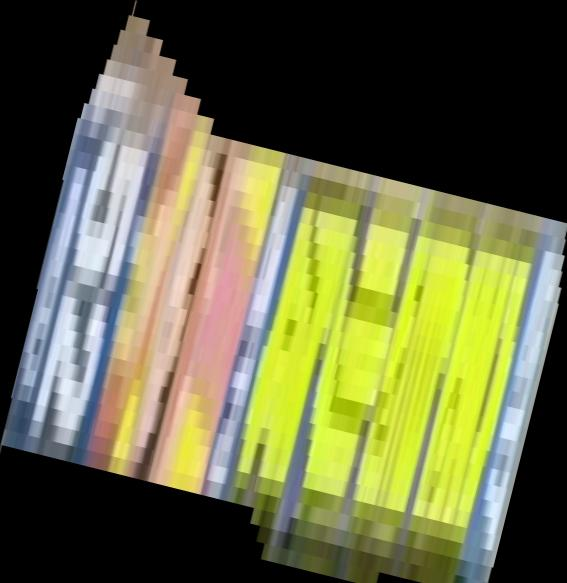flat: (1, 1, 567, 583)
